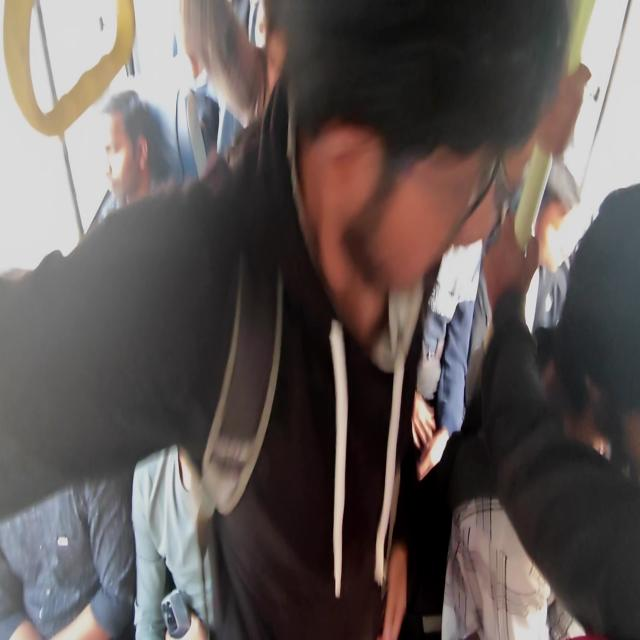person: (1, 0, 588, 638), (478, 181, 639, 638), (102, 89, 175, 208)
